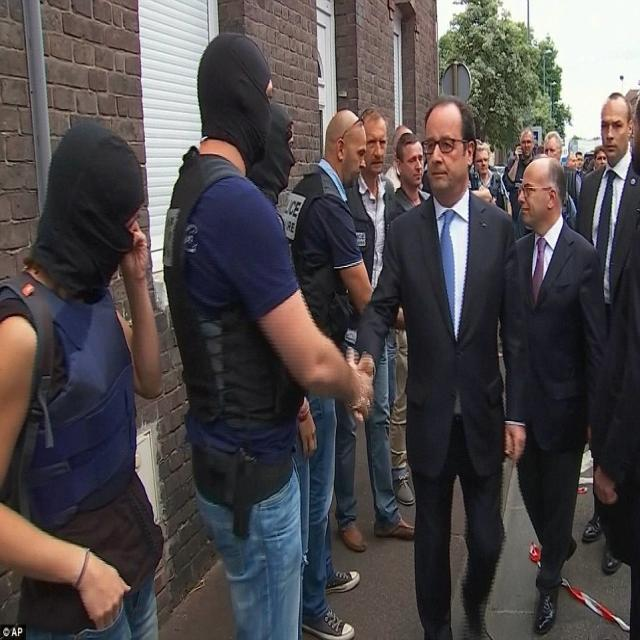body: (160, 27, 378, 640), (346, 92, 534, 639), (0, 115, 172, 639), (496, 152, 610, 638), (278, 105, 377, 640), (246, 95, 320, 640), (332, 104, 416, 552), (574, 91, 640, 579), (589, 94, 640, 576), (387, 131, 432, 508), (542, 128, 612, 198), (383, 121, 433, 202), (501, 126, 537, 222), (468, 141, 513, 215), (623, 81, 639, 174)
